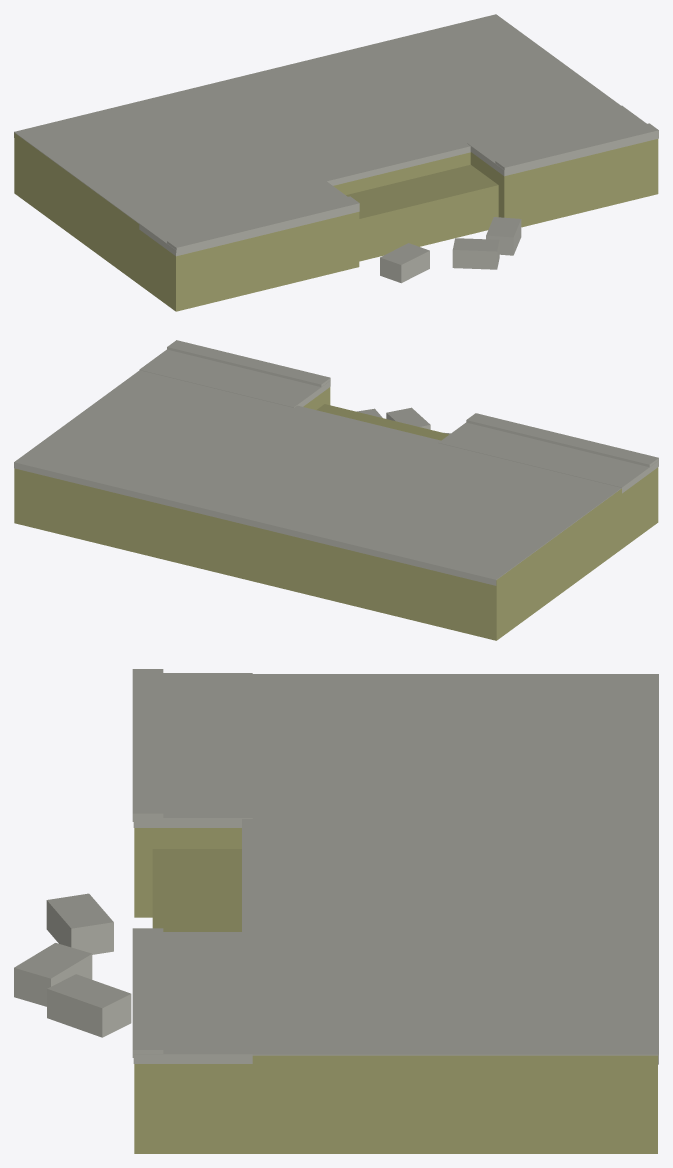
File: SM_MuelleCarga_v2_LOD1.fbx
The picture shows the model from 3 angles, top to bottom: view 1: azimuth 30°, elevation 25°; view 2: azimuth 150°, elevation 25°; view 3: azimuth 270°, elevation 25°; orthographic projection. The views are drawn at different scales.
Parts seen in each view (by area): view 1: SM_muelle_carga_v2_LOD1; view 2: SM_muelle_carga_v2_LOD1; view 3: SM_muelle_carga_v2_LOD1.
Boxes of the visible parts, left/top/right/bottom form: SM_muelle_carga_v2_LOD1: left=14, top=14, right=658, bottom=311; SM_muelle_carga_v2_LOD1: left=14, top=340, right=658, bottom=640; SM_muelle_carga_v2_LOD1: left=14, top=669, right=658, bottom=1153.
Size of the model in its own units: 9.99 by 1.27 by 7.14.
